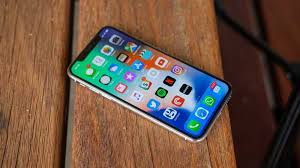iphone: (62, 19, 233, 140)
iphone10: (64, 21, 235, 142)
